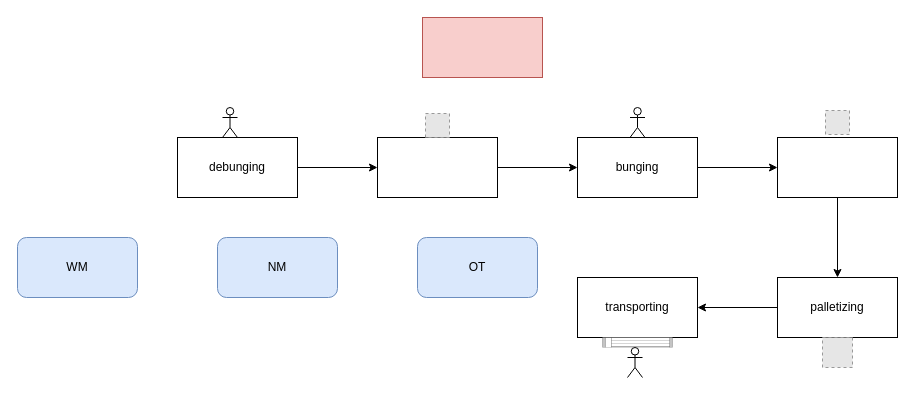
Some shapes in this 915 by 395 pixel diagram are drawn without their labels. Grey dashed boxes stand in for pictures. The shapes that lost their labels are listed below. From the top down, each one's centre as x and y in pixels, then its label:
(482,47): fully automated packaging
(437,167): filling
(837,167): labelling
